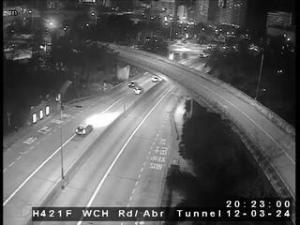vehicle: (76, 124, 92, 136), (128, 80, 136, 86), (152, 76, 159, 82), (134, 88, 140, 94)
